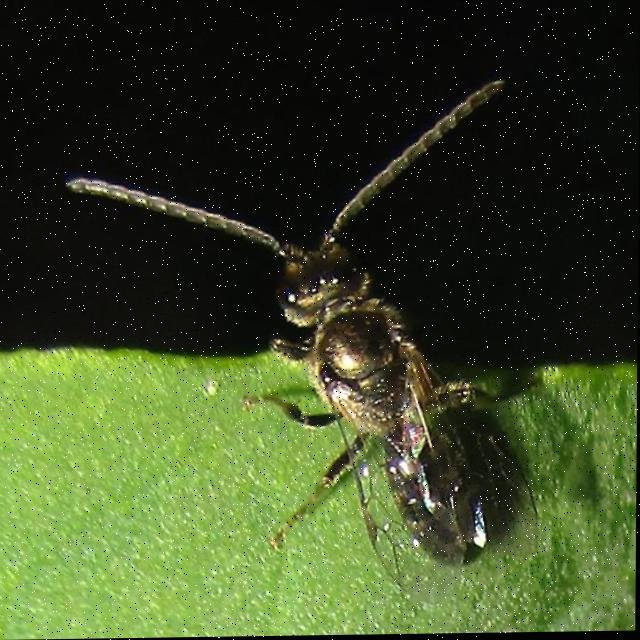Lasioglossum: (73, 65, 594, 600)
